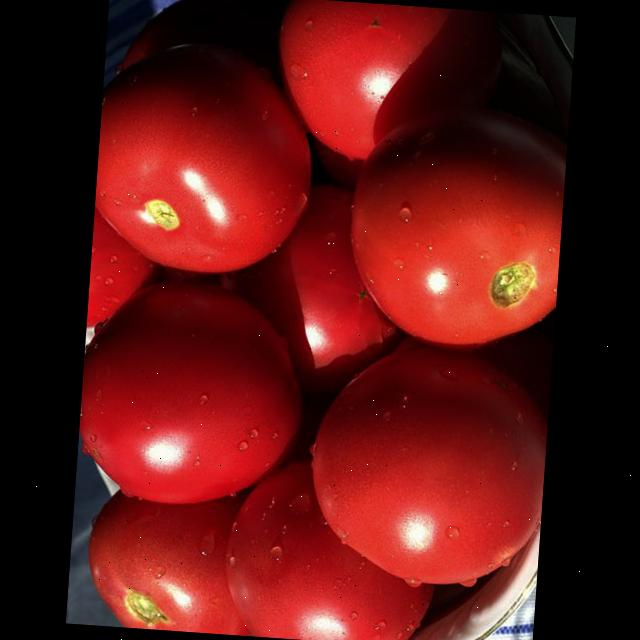tomato: (295, 320, 545, 600), (208, 159, 440, 438), (100, 36, 322, 296), (354, 102, 564, 352), (78, 274, 308, 500), (205, 452, 440, 640), (266, 0, 513, 169), (80, 472, 258, 636)
